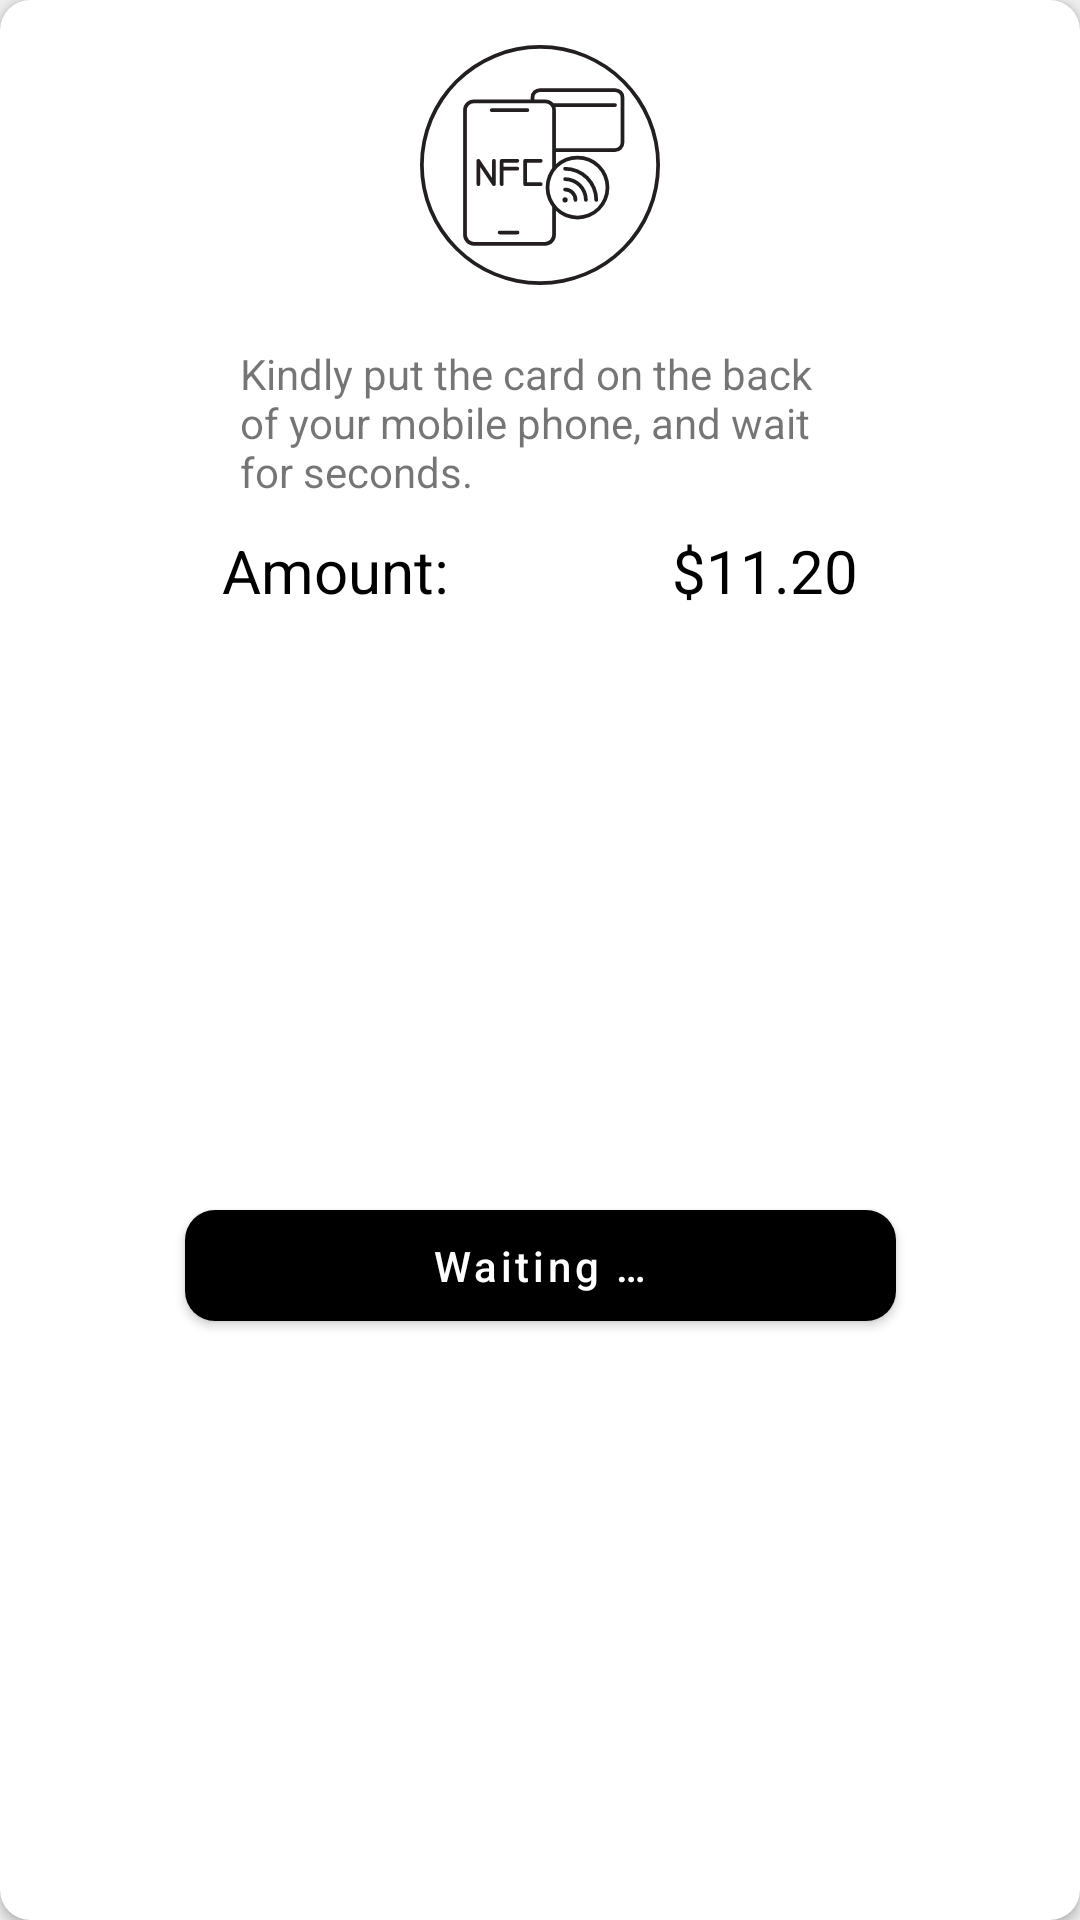

Icons on this 1080x1920 Android screen, each with its box as (x1, y1, x2, y2):
Mobile with card on its back for NFC payment: (420, 45, 660, 285)
